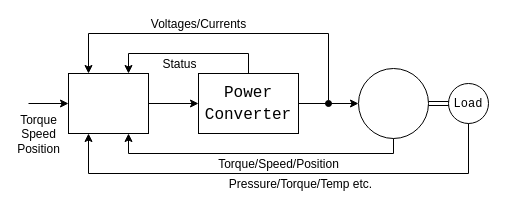
This 506x208 diagram has some shape labels left out. The shapes that lost their labels are listed below. From the top down, each one's centre as x and y in pixels, then its label:
At point 108,103: "Controller".
At point 393,103: "Motor".
